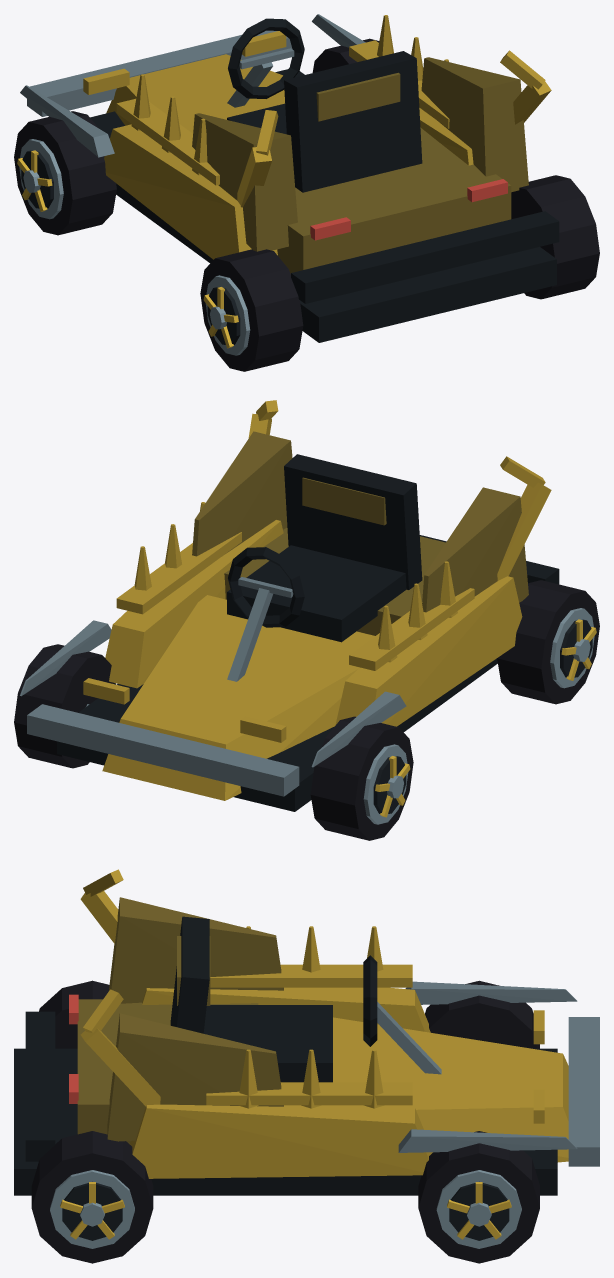
The model's file is kart.glb.
The picture shows the model from 3 angles, top to bottom: view 1: azimuth 30°, elevation 25°; view 2: azimuth 150°, elevation 25°; view 3: azimuth 270°, elevation 25°; orthographic projection. The views are drawn at different scales.
Parts seen in each view (by area): view 1: chassis, wheel-rear-left, wheel-front-left, wheel-rear-right, wheel-front-right; view 2: chassis, wheel-front-left, wheel-rear-left, wheel-front-right; view 3: chassis, wheel-rear-right, wheel-front-right, wheel-front-left, wheel-rear-left.
Part boxes in pixels (bbox=[...]): chassis: bbox=[20, 14, 559, 342]; wheel-rear-left: bbox=[200, 249, 303, 371]; wheel-front-left: bbox=[14, 111, 116, 235]; wheel-rear-right: bbox=[511, 175, 599, 299]; wheel-front-right: bbox=[312, 38, 379, 72]; chassis: bbox=[20, 400, 559, 811]; wheel-front-left: bbox=[310, 716, 413, 840]; wheel-rear-left: bbox=[497, 580, 599, 704]; wheel-front-right: bbox=[14, 644, 115, 768]; chassis: bbox=[14, 869, 599, 1195]; wheel-rear-right: bbox=[31, 1131, 153, 1263]; wheel-front-right: bbox=[418, 1131, 539, 1263]; wheel-front-left: bbox=[425, 980, 539, 1048]; wheel-rear-left: bbox=[39, 980, 109, 1048].
Bounding box in the file's own units: 2.25 × 1.38 × 2.99.
